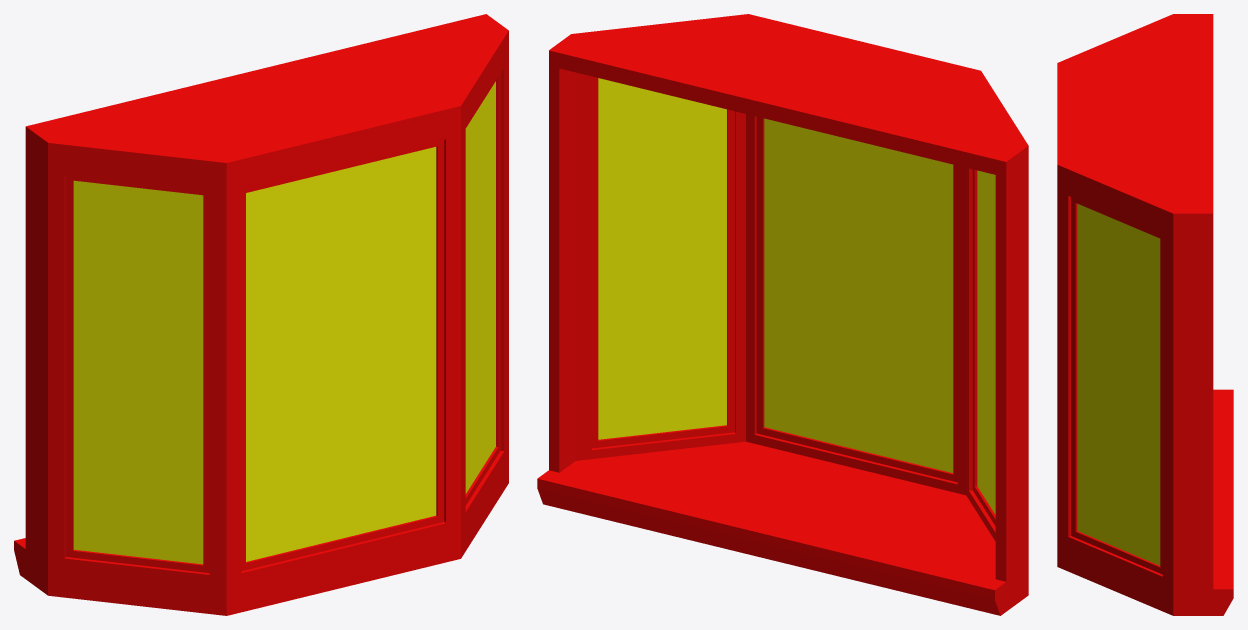
The model's file is window_bay_1.glb.
The picture shows the model from 3 angles, left to right: view 1: azimuth 30°, elevation 25°; view 2: azimuth 150°, elevation 25°; view 3: azimuth 270°, elevation 25°; orthographic projection. The views are drawn at different scales.
Visible parts, largest first — view 1: window_bay_1; view 2: window_bay_1; view 3: window_bay_1.
Part boxes in pixels (x1,y1,x2,y2): window_bay_1: [14, 14, 508, 615]; window_bay_1: [537, 14, 1028, 615]; window_bay_1: [1057, 14, 1233, 615].
Size of the model in its own units: 1.34 by 1.26 by 0.5009.
